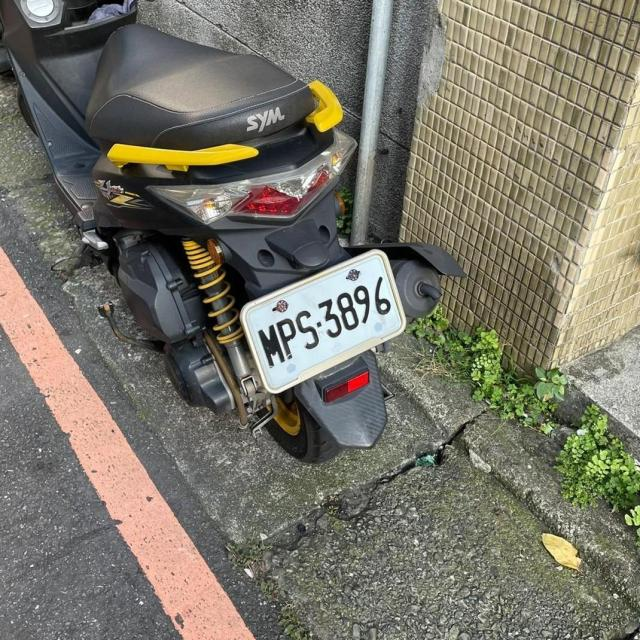W: (230, 244, 412, 399)
